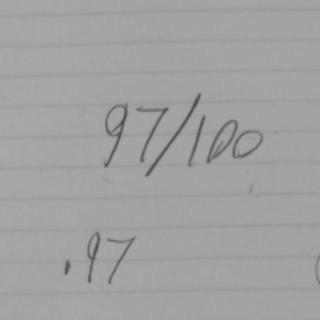.: (56, 259, 73, 276)
0: (203, 118, 241, 165), (231, 127, 265, 159)
1: (183, 113, 210, 172)
7: (103, 231, 141, 292), (135, 101, 169, 159)
9: (96, 97, 134, 170), (80, 226, 102, 286)
